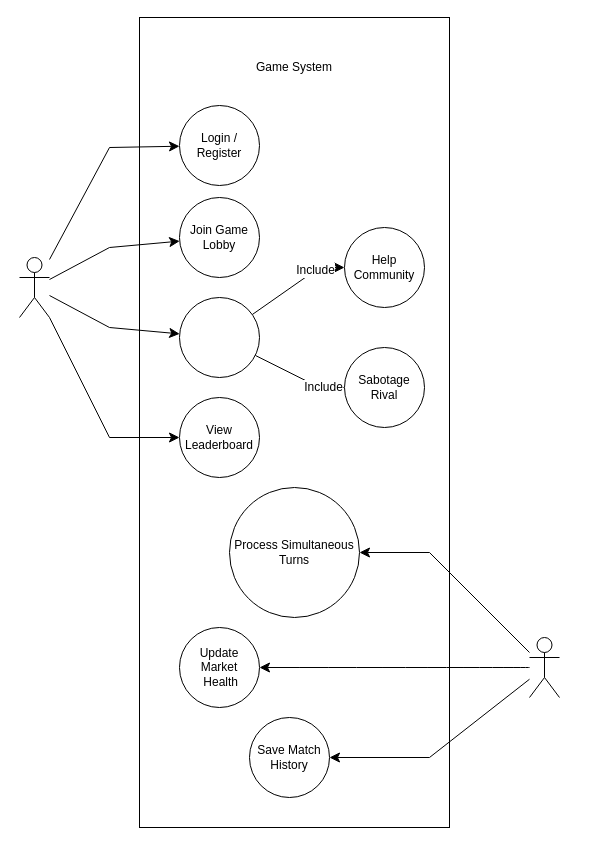
The diagram is 601 pixels wide and 845 high, and some of its shapes have lost their labels. Here are the shapes that lost their labels. From the top down, the box of each, then its label:
(18, 256, 50, 318): Player
(178, 296, 260, 378): Execute Turn Action
(528, 636, 560, 698): Server / Admin
